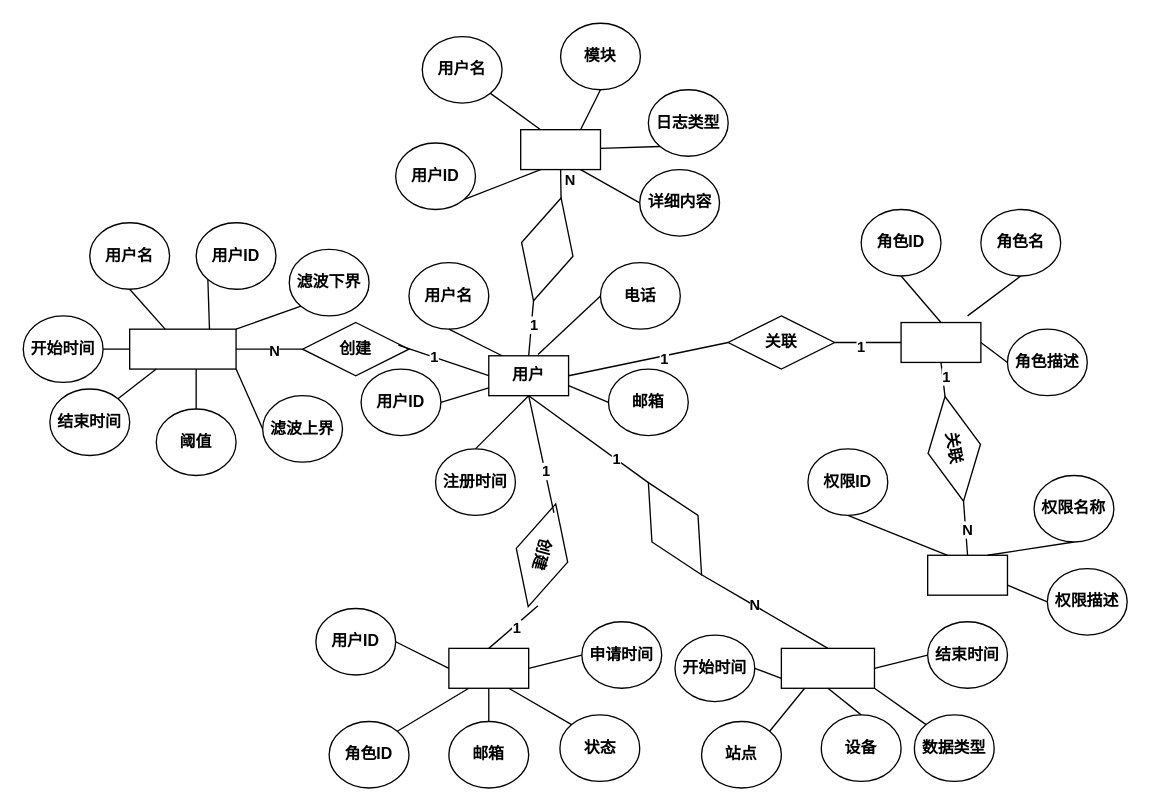
This 1150x811 diagram has some shape labels left out. Here are the shapes that lost their labels. From the top down, the centre of each, then its label:
At pixel 559 149: "日志".
At pixel 546 249: "维护".
At pixel 182 348: "手动事件检测".
At pixel 940 341: "角色".
At pixel 674 528: "管 理".
At pixel 966 574: "权限".
At pixel 488 667: "权限升级".
At pixel 827 667: "受限时间段".
